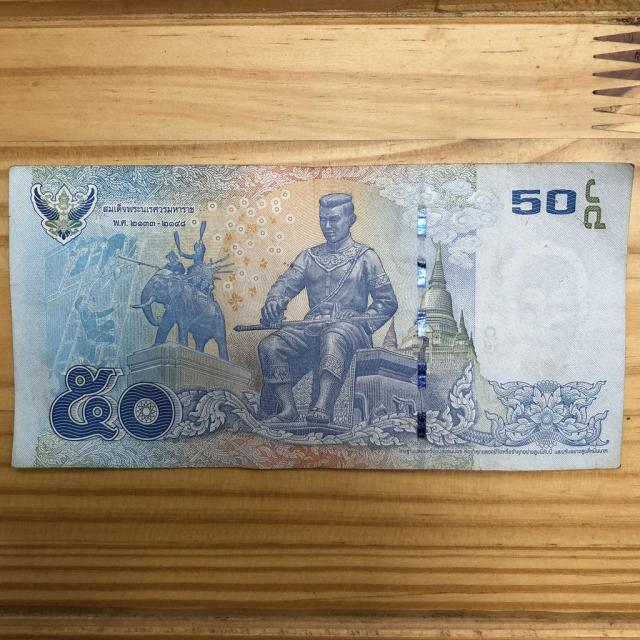THAI50: (9, 162, 634, 470)
